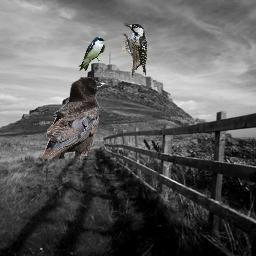Crow: (40, 76, 112, 159)
Swallow: (78, 36, 105, 71)
Woodpecker: (121, 23, 147, 78)
